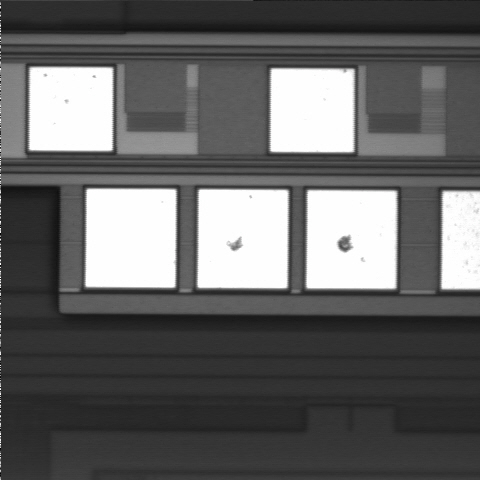pad: (86, 189, 176, 288), (307, 190, 397, 289), (198, 190, 288, 288), (30, 67, 113, 151), (271, 69, 354, 152)
